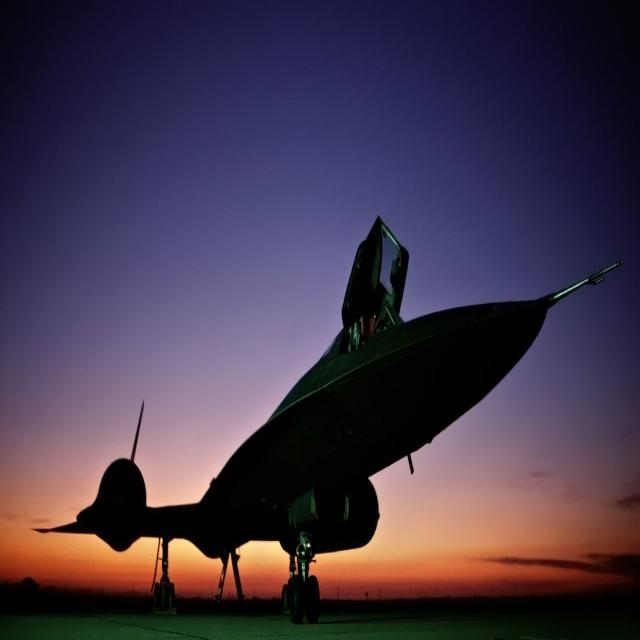MIL_Plane: (29, 214, 625, 624)
